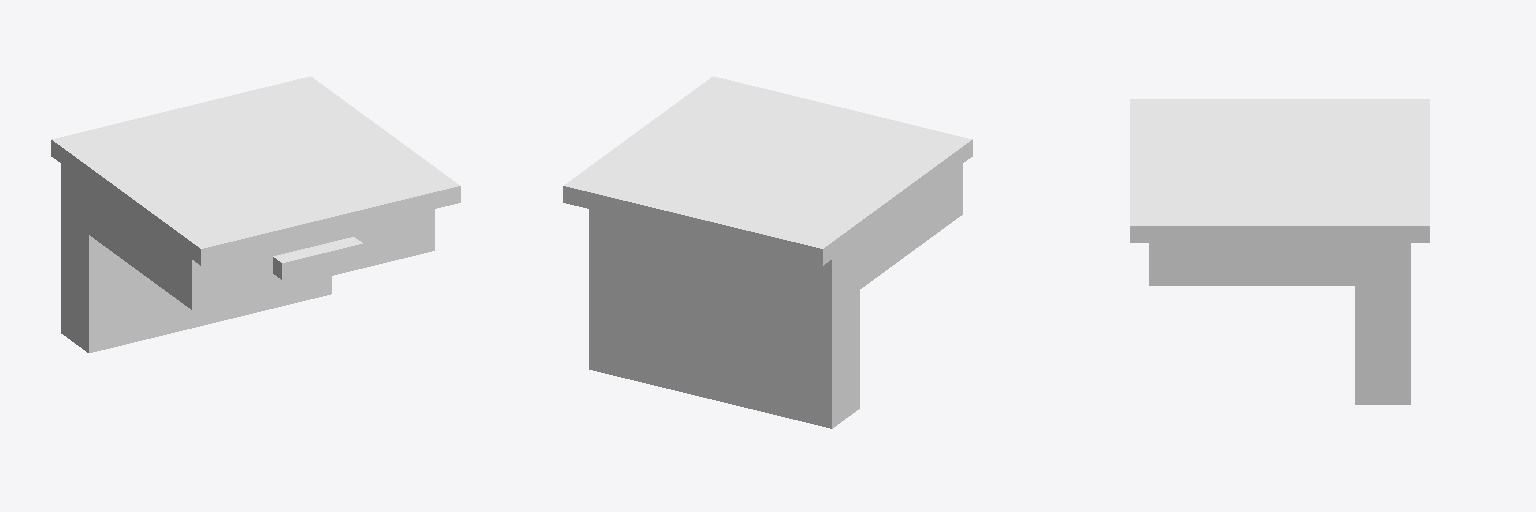
The model's file is ManagerDeskV1Mid.obj.
3 renders of one model, left to right at view 1: azimuth 30°, elevation 25°; view 2: azimuth 150°, elevation 25°; view 3: azimuth 270°, elevation 25°, orthographic.
Parts seen in each view (by area): view 1: object 1; view 2: object 1; view 3: object 1.
Part boxes in pixels (x1,y1,x2,y2): object 1: (51,76,460,352); object 1: (563,76,972,428); object 1: (1130,99,1429,404).
Bounding box in the file's own units: 1.6 × 1.1 × 1.6.